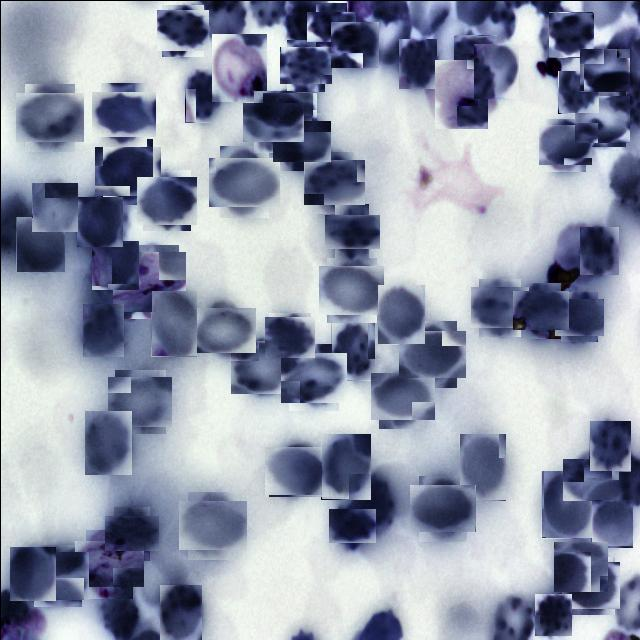red blood cell: (213, 151, 274, 211), (540, 470, 592, 538), (182, 496, 242, 554), (98, 142, 156, 200), (232, 338, 290, 396), (20, 88, 78, 146), (322, 260, 380, 318), (268, 442, 326, 500), (284, 348, 342, 406), (110, 372, 168, 430), (403, 325, 461, 382), (320, 433, 370, 499), (414, 479, 471, 536), (193, 302, 250, 358), (458, 433, 505, 500), (374, 368, 430, 424), (84, 409, 131, 474), (150, 290, 196, 356), (96, 86, 150, 142), (139, 172, 193, 227), (306, 154, 361, 208), (30, 548, 84, 602), (376, 284, 424, 344), (564, 558, 616, 612), (15, 216, 64, 272), (554, 540, 606, 592), (576, 92, 627, 144), (330, 322, 374, 380), (474, 282, 524, 332), (276, 116, 326, 166), (248, 96, 298, 146), (9, 546, 55, 600), (473, 43, 518, 98), (348, 473, 392, 529), (566, 454, 614, 504), (90, 240, 138, 290), (330, 19, 378, 68), (30, 182, 77, 232), (159, 584, 201, 639), (158, 6, 206, 54), (516, 286, 564, 334), (265, 89, 313, 137), (76, 196, 122, 246), (580, 46, 628, 93), (541, 121, 588, 168), (82, 303, 123, 356), (588, 420, 630, 471), (266, 314, 312, 360), (328, 208, 374, 254), (282, 42, 328, 88), (108, 510, 154, 556), (590, 498, 632, 546), (184, 68, 221, 122), (556, 294, 600, 338), (548, 12, 592, 56), (398, 38, 436, 88), (579, 226, 618, 274), (454, 34, 496, 76), (330, 504, 372, 546), (557, 70, 598, 113), (533, 593, 571, 636), (310, 6, 350, 46)
trophozoite: (115, 248, 182, 314), (430, 62, 492, 124), (211, 33, 266, 101), (80, 534, 138, 592)
